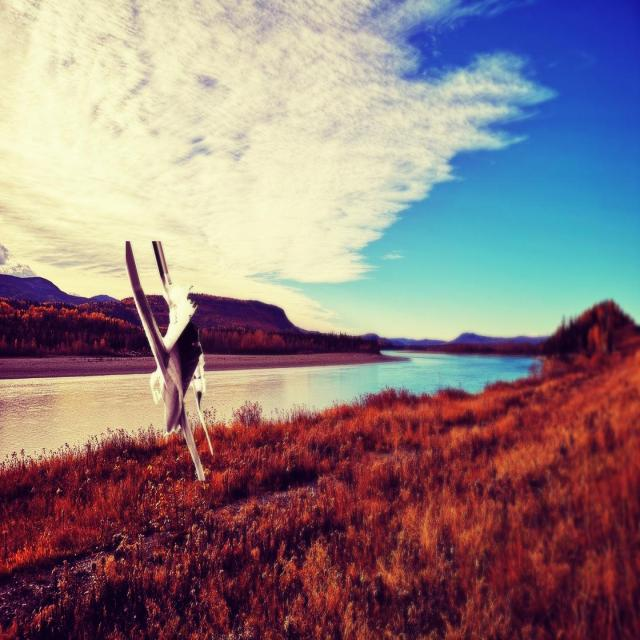airplane: (124, 239, 214, 482)
